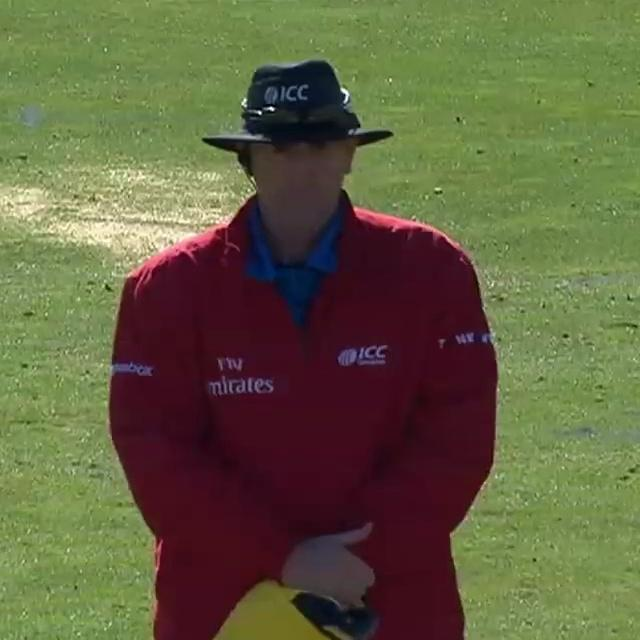umpire: (70, 25, 536, 640)
